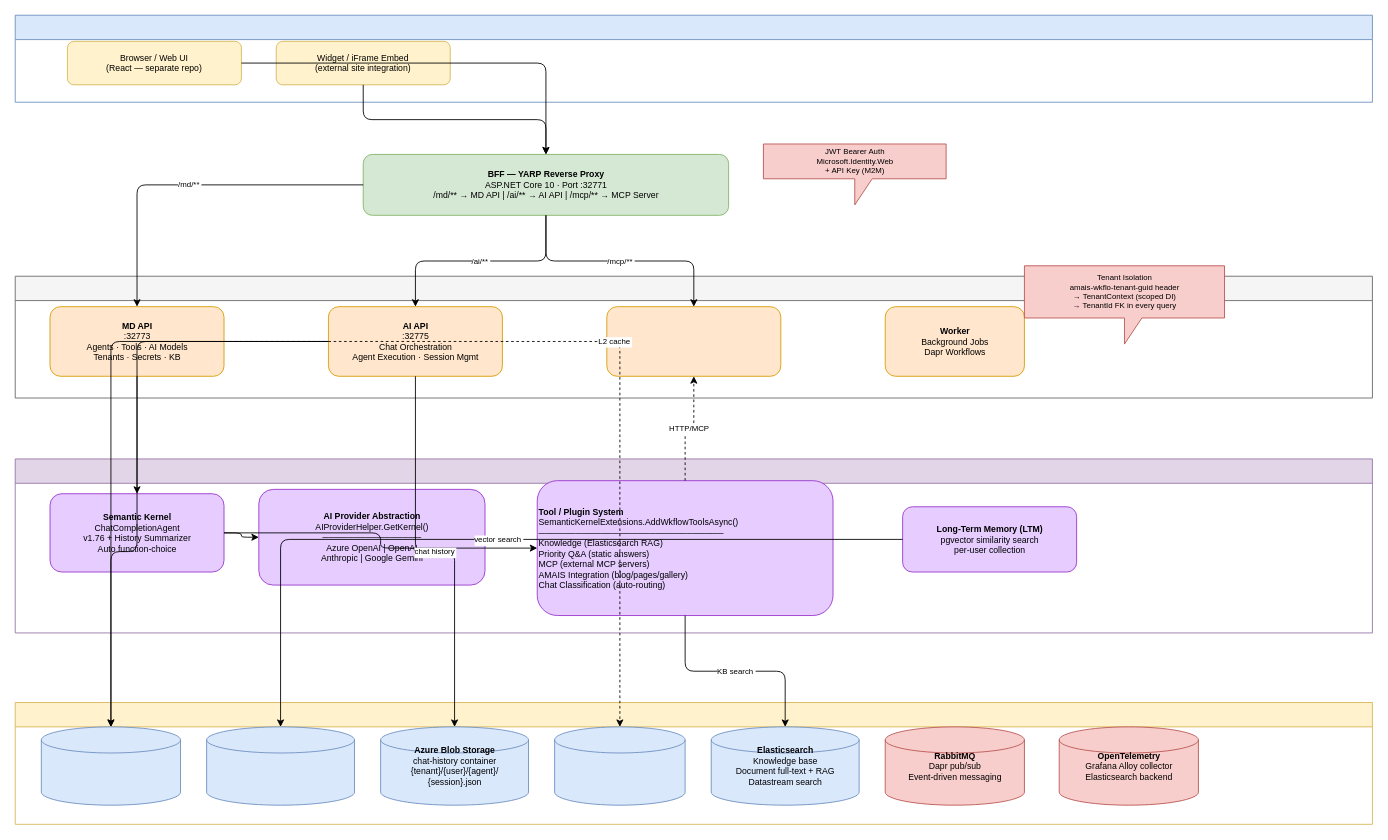
This 1388x840 diagram has some shape labels left out. The box of each missing label's shape, as (x1, y1, x2, y2) in pixels:
AI Engine (inside AI API): (14, 458, 1372, 633)
Client Layer: (14, 14, 1372, 102)
Data & Infrastructure: (14, 702, 1372, 824)
MCP Server :32875 Model Context Protocol Blog · Pages · Gallery · Weather: (606, 306, 781, 376)
PostgreSQL / Neon Npgsql + pgvector 1536-dim embeddings Vector similarity search: (206, 726, 355, 805)
Redis EF Core L2 cache 30-min TTL Dapr state: (554, 726, 685, 805)
SQL Server EF Core 10 Agents · Tools · Tenants TenantId FK isolation: (40, 726, 181, 805)
WKFLO Platform Services: (14, 275, 1372, 398)
